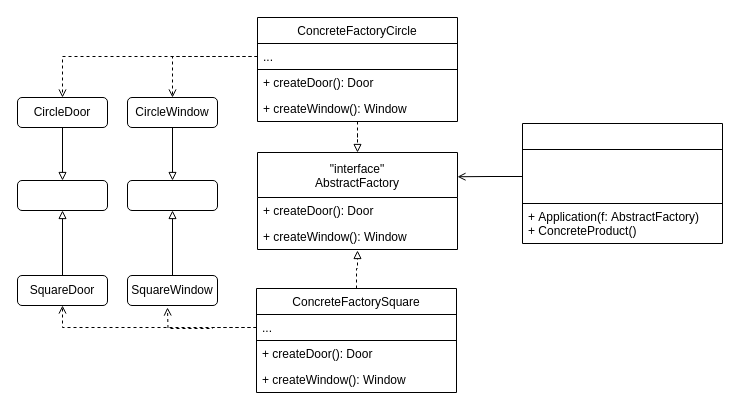
The diagram is 740 pixels wide and 413 high, and some of its shapes have lost their labels. Each missing label, with the box of its shape:
- factory: AbstractFactory - productDoor: Door - productWindow: Window: (522, 148, 722, 204)
clientCode: (522, 122, 722, 244)
Door: (16, 180, 108, 210)
Window: (126, 180, 218, 210)
